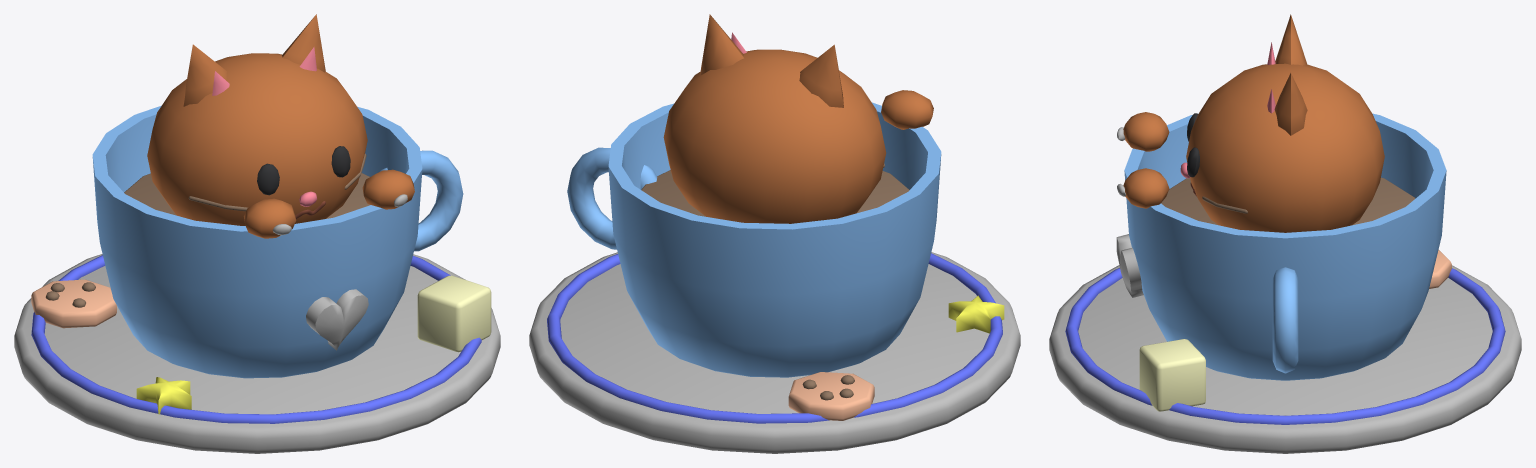
Rendered from CatTeacup.fbx.
3 views of the same model, side by side, from view 1: azimuth 30°, elevation 25°; view 2: azimuth 150°, elevation 25°; view 3: azimuth 270°, elevation 25° (orthographic). The views are drawn at different scales.
Visible parts, largest first — view 1: M_CatTeacup, S_CatTeacup, D_CatTeacup_12, D_CatTeacup_1, D_CatTeacup_13, D_CatTeacup_5, D_CatTeacup_4; view 2: M_CatTeacup, S_CatTeacup, D_CatTeacup_13; view 3: M_CatTeacup, S_CatTeacup, D_CatTeacup_12, D_CatTeacup_1.
Boxes of the visible parts, x1,y1,x2,y2 form: M_CatTeacup: (92, 14, 422, 378); S_CatTeacup: (14, 150, 500, 453); D_CatTeacup_12: (417, 275, 491, 352); D_CatTeacup_1: (306, 289, 368, 350); D_CatTeacup_13: (136, 377, 191, 414); D_CatTeacup_5: (257, 163, 279, 195); D_CatTeacup_4: (331, 146, 350, 177); M_CatTeacup: (608, 14, 941, 377); S_CatTeacup: (529, 90, 1020, 453); D_CatTeacup_13: (948, 295, 1004, 333); M_CatTeacup: (1124, 14, 1446, 380); S_CatTeacup: (1049, 112, 1521, 453); D_CatTeacup_12: (1139, 339, 1205, 411); D_CatTeacup_1: (1116, 234, 1143, 297).
Size of the model in its own units: 610 by 447 by 610.
